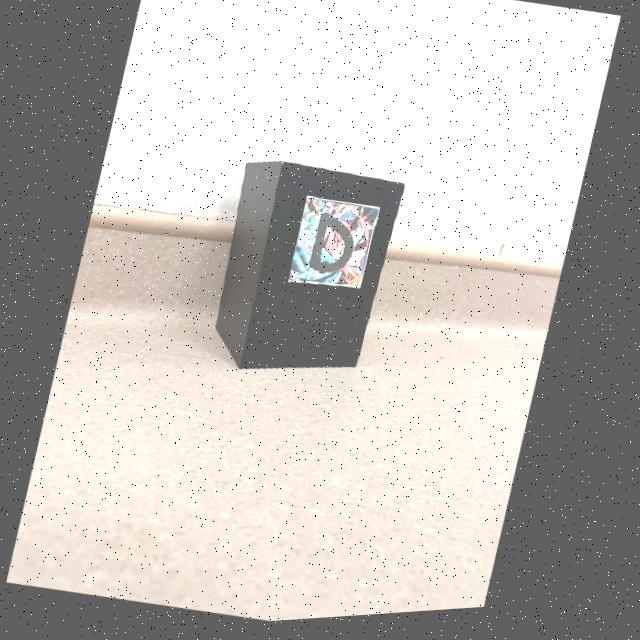D: (310, 218, 355, 278)
